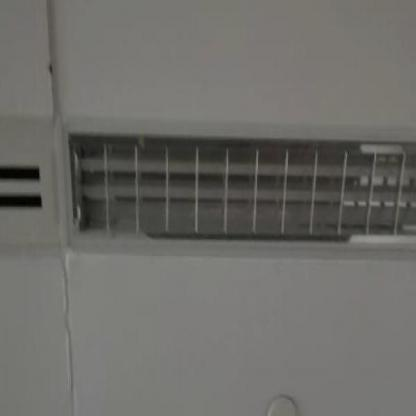light_off: (60, 94, 416, 288)
